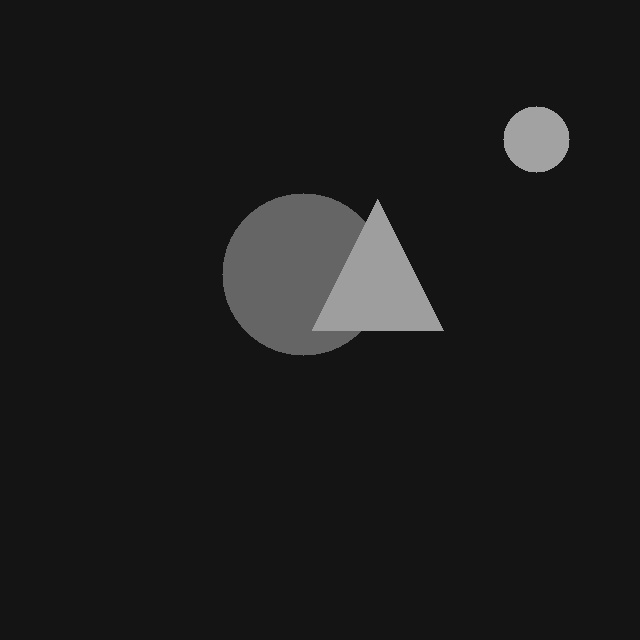circle: (222, 193, 384, 355), (503, 106, 569, 172)
triangle: (312, 199, 443, 330)
